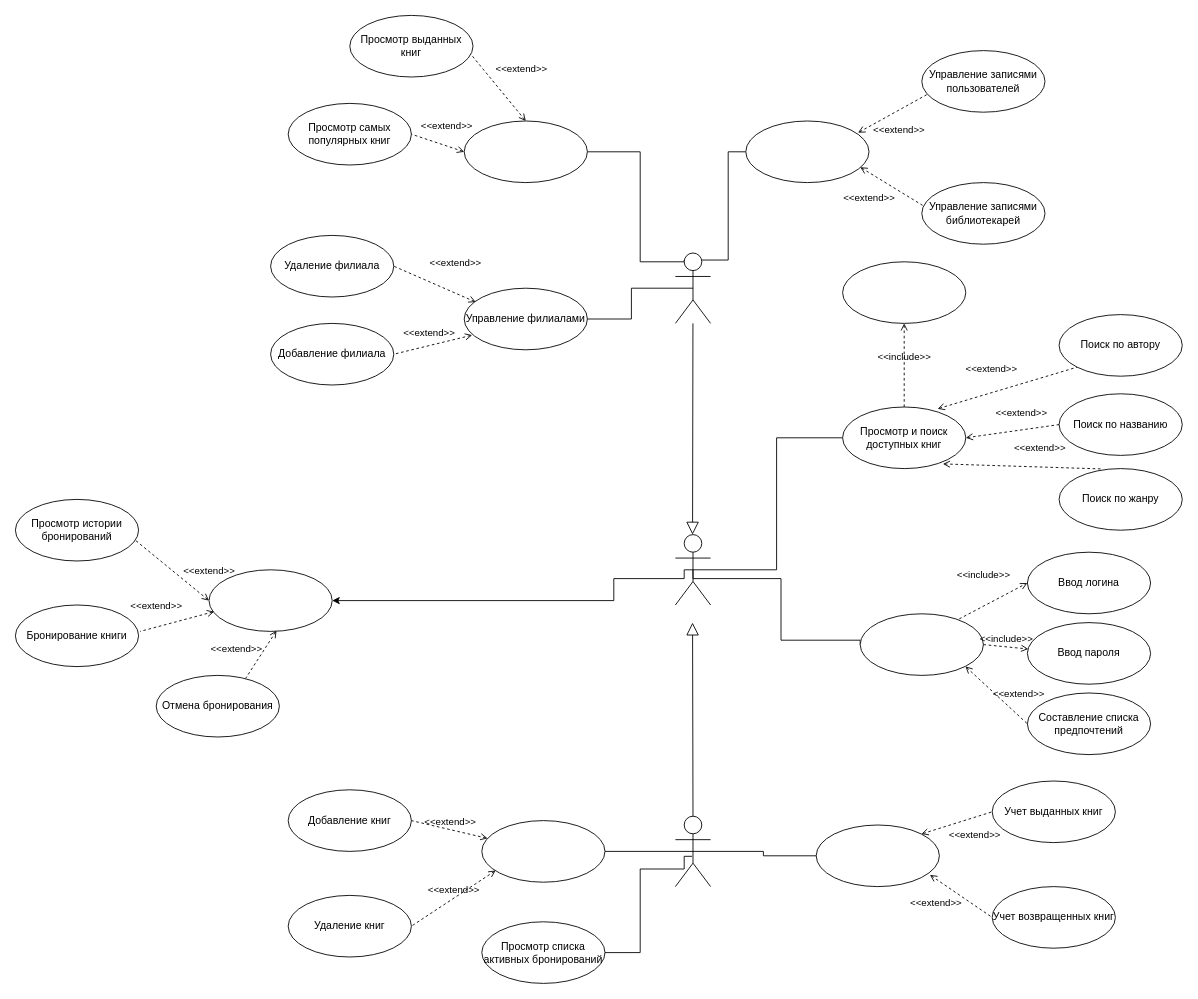
This 1198x999 diagram has some shape labels left out. The shapes that lost their labels are listed below. From the top down, each one's box as (x1, y1, x2, y2) in pixels, then its label:
(463, 120, 587, 183): Просмотр аналитики
(745, 120, 869, 183): Управление учетными записями
(675, 252, 711, 323): Администратор
(842, 261, 966, 323): Просмотр списка
(675, 534, 711, 605): Читатель
(208, 569, 332, 631): Управление бронированием
(859, 613, 983, 675): Регистрация в системе
(481, 820, 605, 882): Управление каталогом
(675, 815, 711, 887): Библиотекарь
(815, 824, 939, 887): Учет книг
